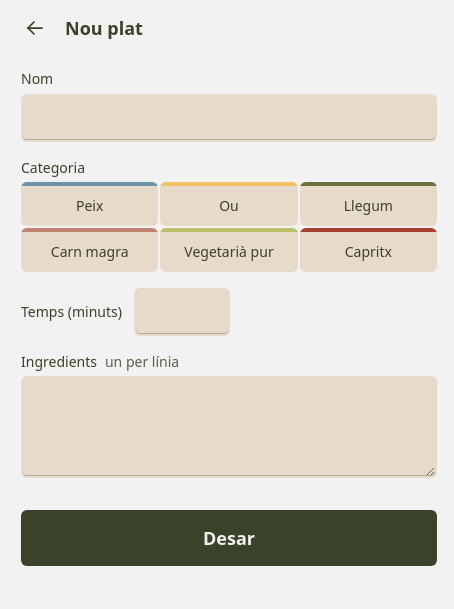
Scenario: DishFormScreen › sense nom avisa al camp del nom i no desa
Expected: the heading "Nou plat" is shown, x1=65 y1=16 x2=143 y2=40
Expected: the button "Desar" is shown, x1=21 y1=510 x2=437 y2=566
Click the radio button labelled "Peix".
click(90, 204)  # box x1=21 y1=182 x2=158 y2=226
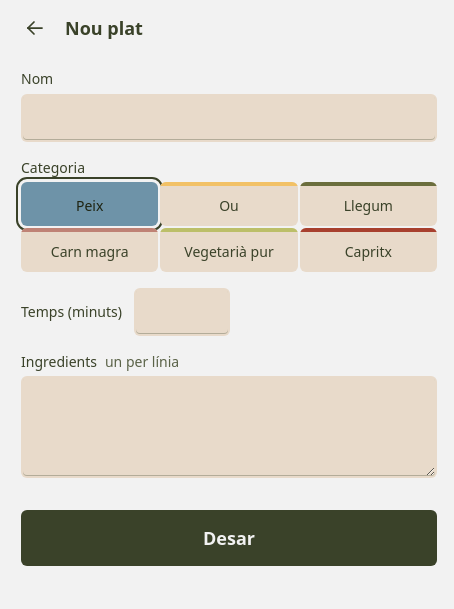
Click the button "Desar".
click(229, 538)  # box x1=21 y1=510 x2=437 y2=566
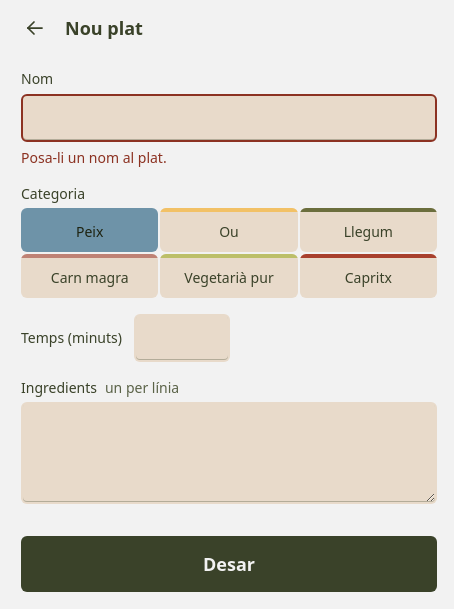
Result: the text "Posa-li un nom al plat." is shown at x1=21 y1=148 x2=167 y2=167
